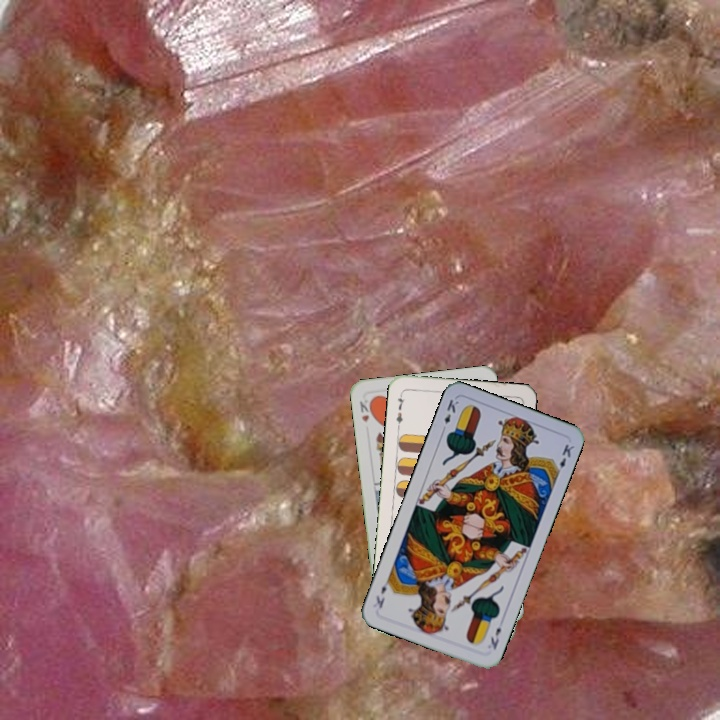E7: (392, 389, 407, 430)
EK: (438, 395, 461, 435), (486, 623, 504, 652)
HK: (355, 396, 375, 425)
